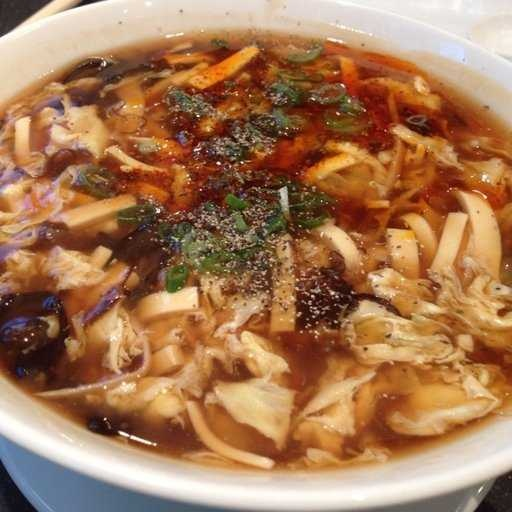soup: (1, 23, 511, 471)
